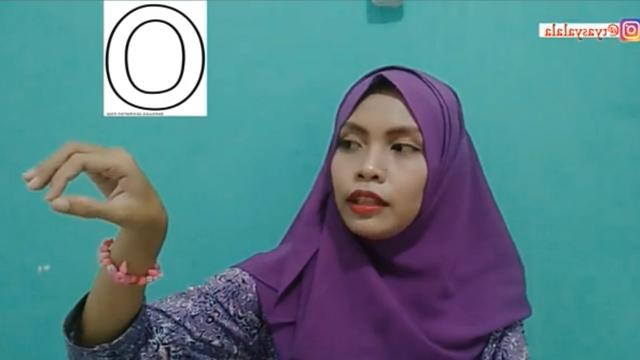O: (20, 140, 172, 229)
